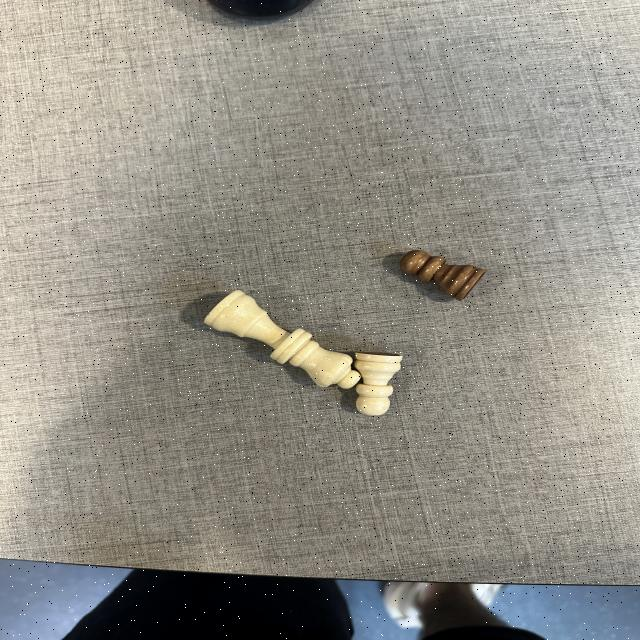Black-Pawn: (398, 248, 488, 302)
White-Pawn: (354, 352, 404, 416)
White-Queen: (202, 288, 362, 390)
